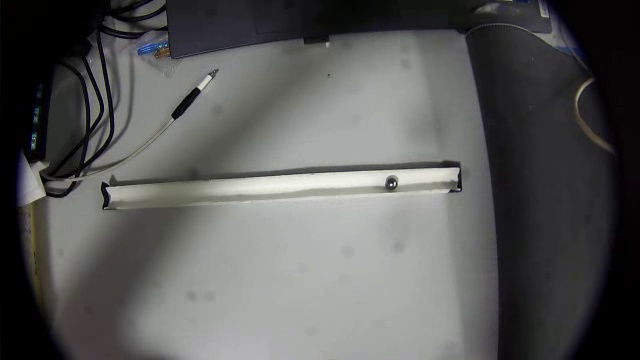gangzhu: (384, 175, 400, 192)
